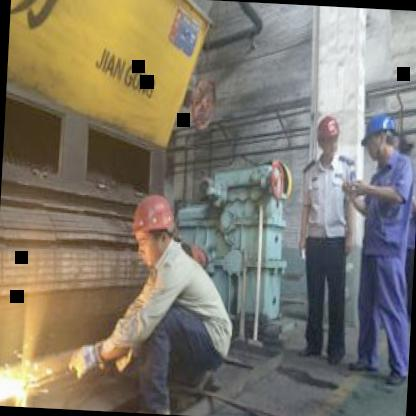helmet: (125, 190, 180, 270), (361, 108, 402, 162), (314, 110, 342, 155)
